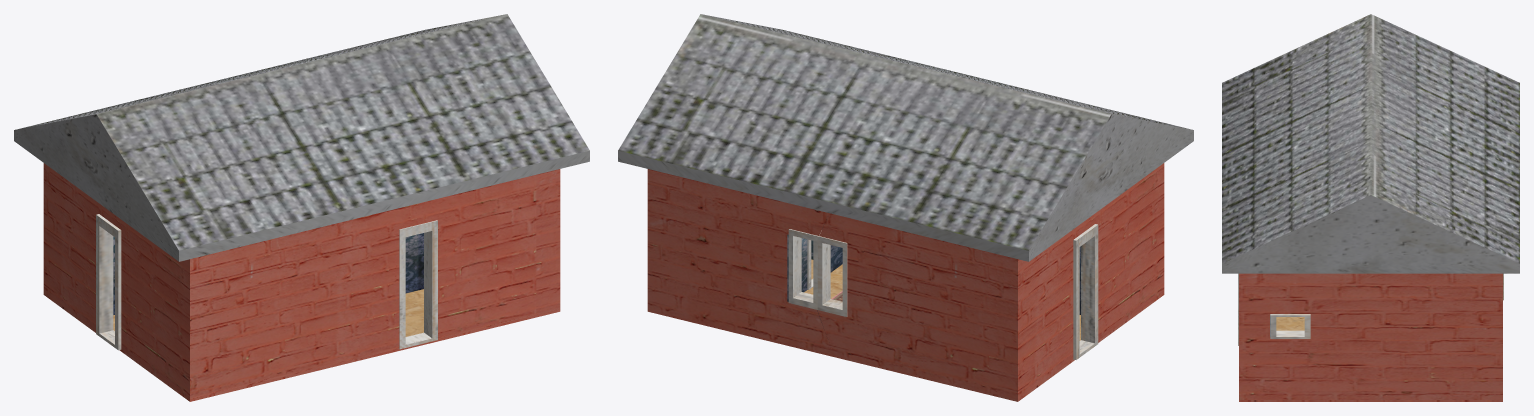
File: House ver3.FBX
3 views of the same model, side by side, from view 1: azimuth 30°, elevation 25°; view 2: azimuth 150°, elevation 25°; view 3: azimuth 270°, elevation 25° (orthographic). The views are drawn at different scales.
Parts seen in each view (by area): view 1: House ver3; view 2: House ver3; view 3: House ver3.
Boxes of the visible parts, bbox=[...] form: House ver3: bbox=[14, 14, 589, 401]; House ver3: bbox=[618, 14, 1193, 401]; House ver3: bbox=[1222, 14, 1519, 401].
Size of the model in its own units: 586 by 326 by 408.
